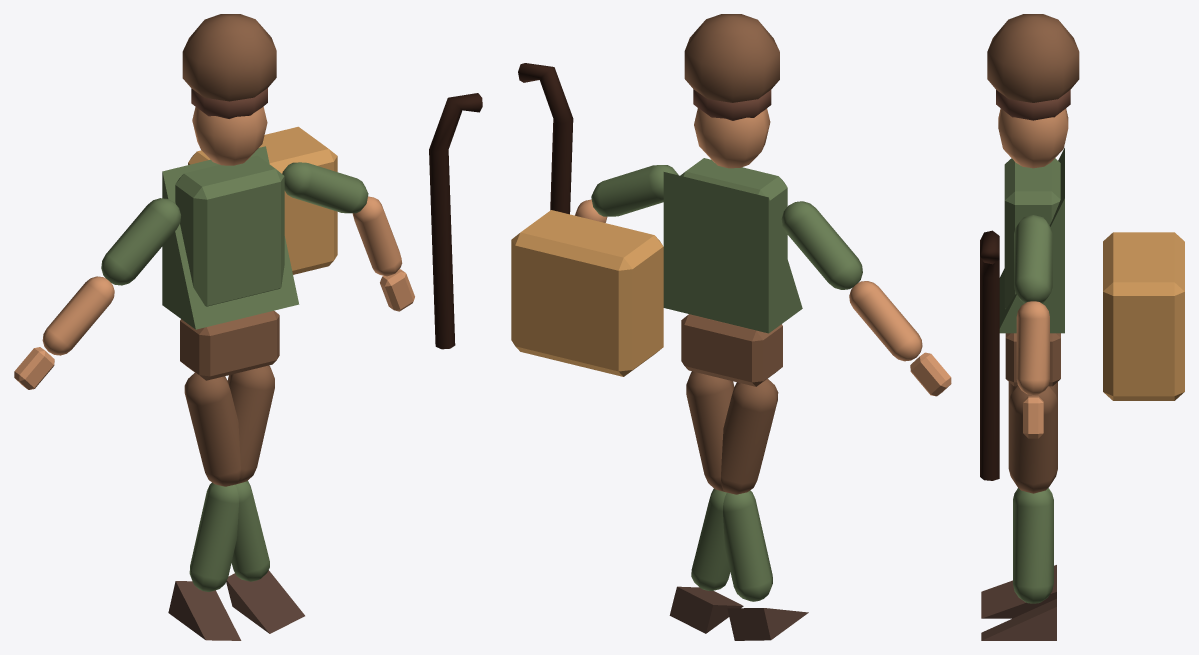
The model's file is adventurer.rustic.glb.
The picture shows the model from 3 angles, left to right: view 1: azimuth 30°, elevation 25°; view 2: azimuth 150°, elevation 25°; view 3: azimuth 270°, elevation 25°; orthographic projection.
Visible parts, largest first — view 1: torso, accessory.head, tunic, accessory.back, accessory.main-hand, pelvis, thigh.left, shin.right, upper-arm.left, thigh.right, head, upper-arm.right (+8 smaller); view 2: accessory.back, tunic, accessory.head, pelvis, thigh.left, shin.right, upper-arm.left, thigh.right, accessory.main-hand, head, forearm.left, upper-arm.right (+6 smaller); view 3: accessory.back, accessory.head, accessory.main-hand, shin.left, thigh.right, torso, upper-arm.right, head, forearm.right, tunic, foot.left, foot.right (+3 smaller).
Part boxes in pixels (box(x1,y1,x2,y2)): torso: box(175, 155, 284, 306); accessory.head: box(182, 14, 276, 101); tunic: box(162, 146, 299, 329); accessory.back: box(188, 126, 337, 274); accessory.main-hand: box(429, 93, 482, 349); pelvis: box(180, 310, 279, 380); thigh.left: box(184, 373, 240, 486); shin.right: box(189, 482, 238, 591); upper-arm.left: box(101, 198, 180, 285); thigh.right: box(227, 365, 274, 484); head: box(192, 106, 267, 165); upper-arm.right: box(282, 162, 368, 213); accessory.back: box(511, 210, 663, 376); tunic: box(663, 172, 802, 333); accessory.head: box(684, 14, 779, 102); pelvis: box(681, 314, 782, 386); thigh.left: box(721, 378, 778, 494); shin.right: box(723, 490, 772, 601); upper-arm.left: box(781, 201, 862, 289); thigh.right: box(686, 371, 734, 491); accessory.main-hand: box(518, 63, 573, 214); head: box(694, 108, 770, 168); forearm.left: box(849, 281, 922, 361); upper-arm.right: box(591, 165, 678, 216); accessory.back: box(1103, 232, 1184, 400); accessory.head: box(987, 14, 1079, 102); accessory.main-hand: box(980, 230, 999, 480); shin.left: box(1013, 489, 1053, 603); thigh.right: box(1008, 386, 1057, 493); torso: box(1004, 158, 1060, 308); upper-arm.right: box(1014, 215, 1052, 303); head: box(998, 108, 1068, 168); forearm.right: box(1016, 301, 1049, 395); tunic: box(999, 147, 1064, 333); foot.left: box(981, 598, 1056, 640); foot.right: box(981, 565, 1056, 618).
Bounding box in the file's own units: 2.52 × 3.28 × 1.
